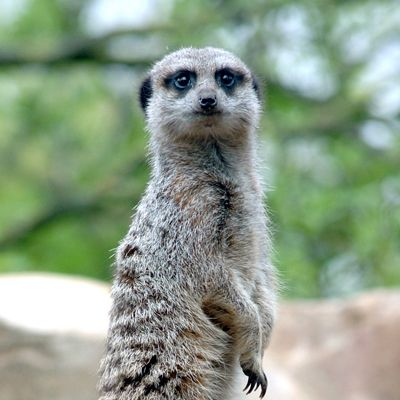meerkat: (94, 40, 296, 400)
